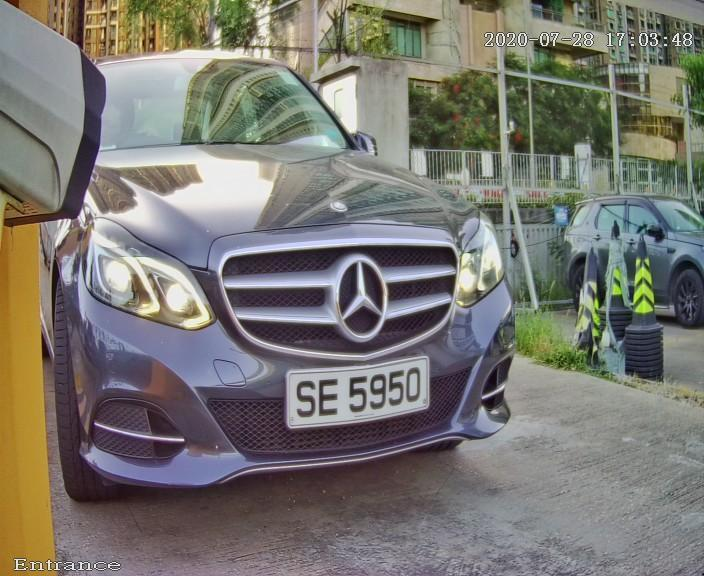privatecar: (7, 8, 613, 530)
